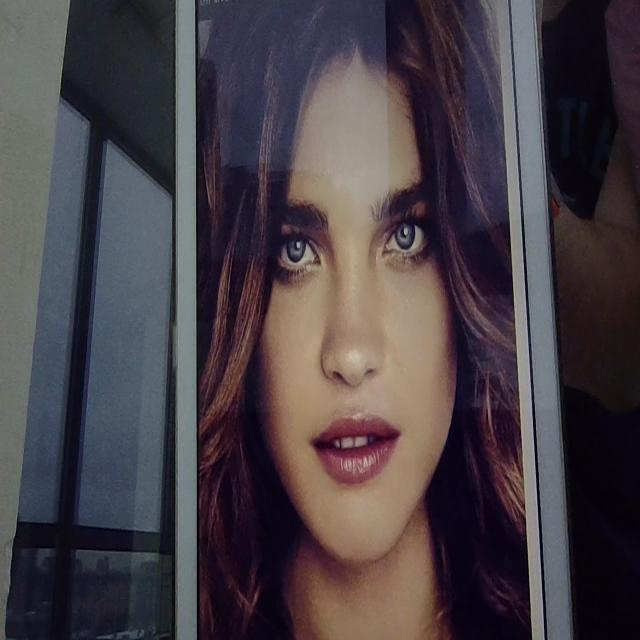device: (171, 0, 577, 640)
